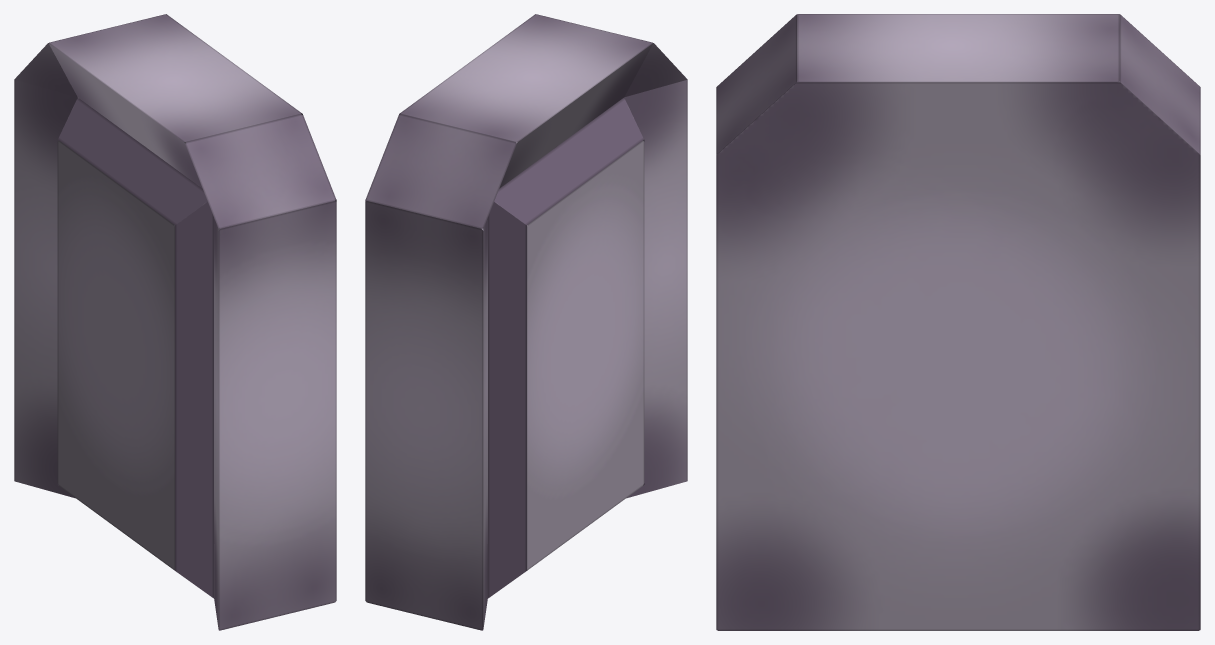
File: graveObj.fbx
3 views of the same model, side by side, from view 1: azimuth 30°, elevation 25°; view 2: azimuth 150°, elevation 25°; view 3: azimuth 270°, elevation 25° (orthographic). The views are drawn at different scales.
Parts seen in each view (by area): view 1: beveled_cuboid; view 2: beveled_cuboid; view 3: beveled_cuboid.
Part boxes in pixels (left/top/right/bottom): beveled_cuboid: left=14, top=14, right=336, bottom=630; beveled_cuboid: left=365, top=14, right=687, bottom=630; beveled_cuboid: left=716, top=14, right=1200, bottom=630.
Size of the model in its own units: 25 by 93.75 by 75.
Materials: 1 (1 with a texture image).
